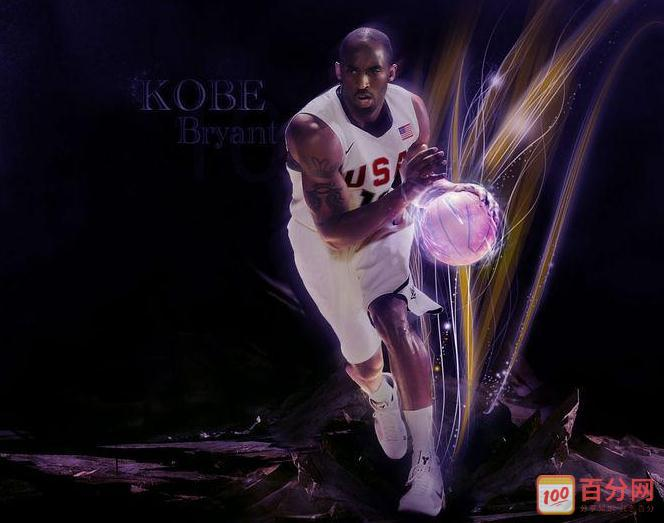ball: (420, 190, 497, 268)
